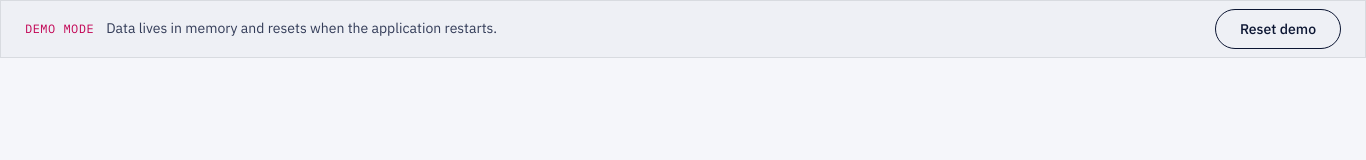
Test: DemoModeNotice › shows a reset error without closing the confirmation
Step 1. Click the button "Reset demo" → point(1278, 29), box [1215,9,1341,49]
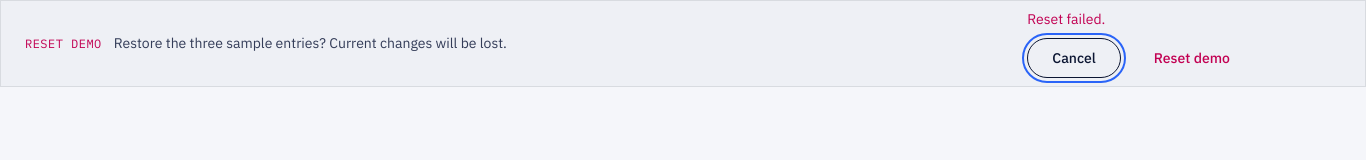
Result: the message reads "Reset failed." at [1027,10,1105,28]
Result: the button "Reset demo" is shown at [1129,38,1255,78]
